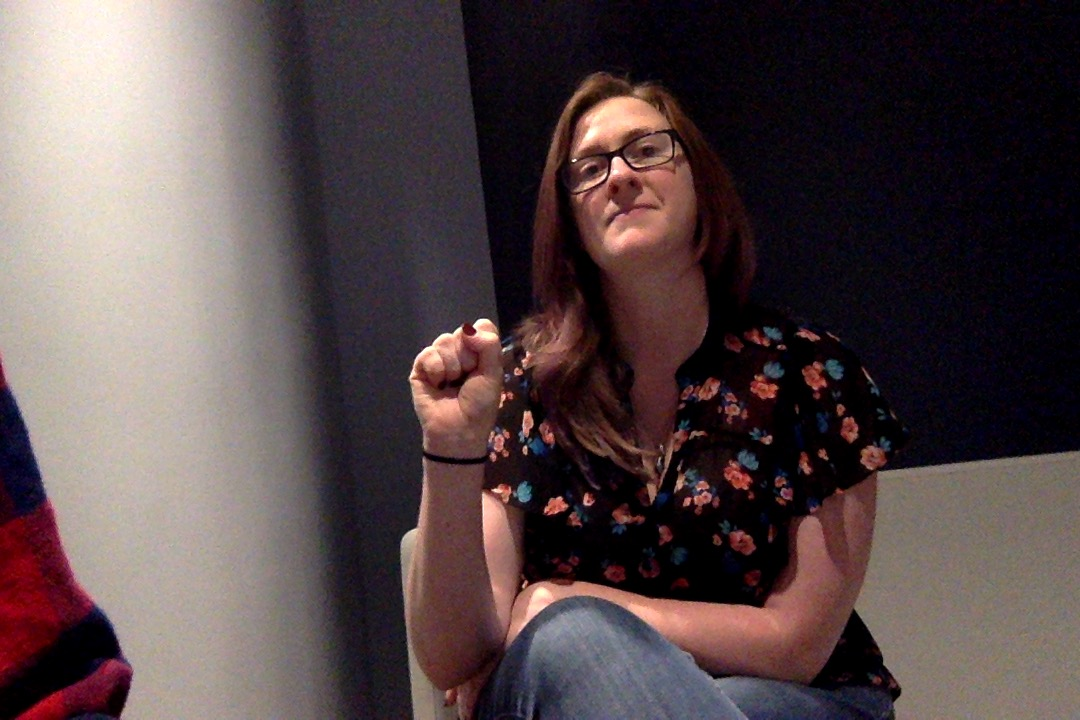s: (397, 311, 516, 504)
